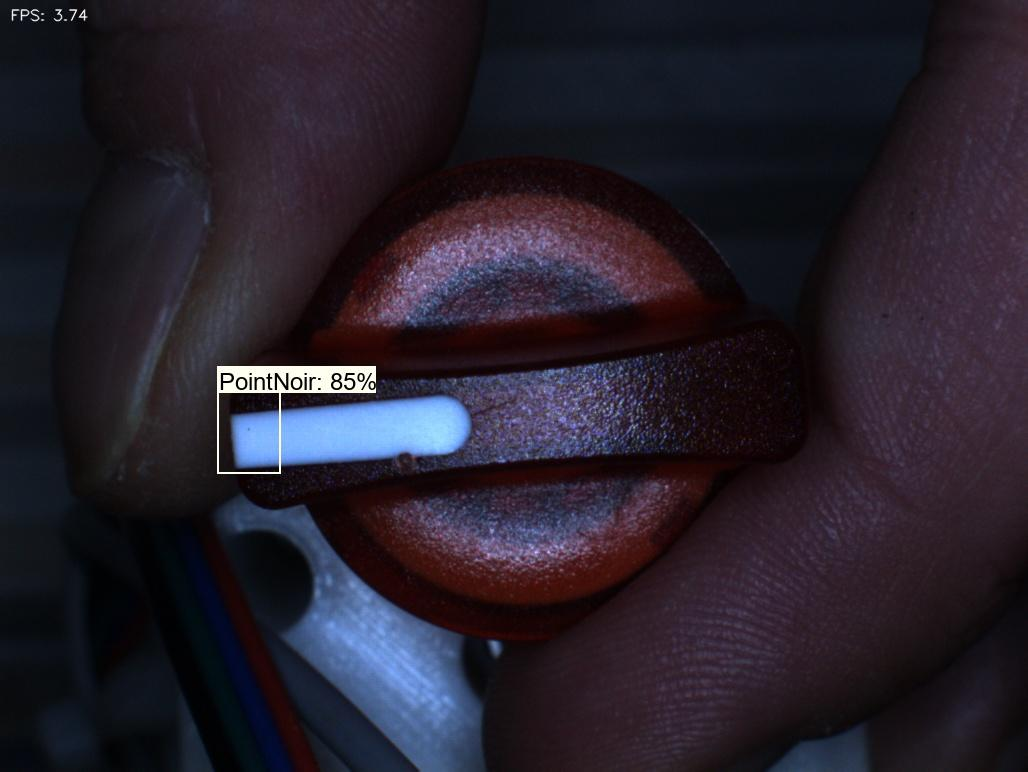Choc: (374, 432, 448, 500)
